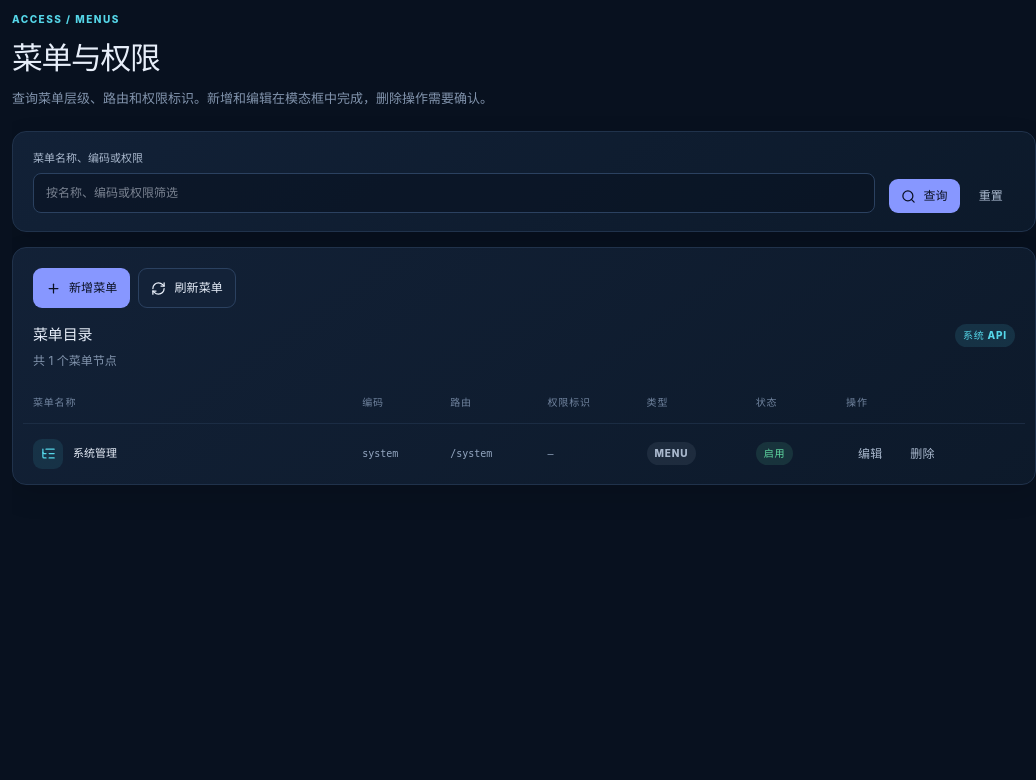
it: MenusPage › 刷新失败时保留菜单树并显示错误码，重试成功后清除反馈
expect the text "系统管理" is shown: met, box x1=73 y1=445 x2=117 y2=462
Click the button "刷新菜单": [187, 288] box x1=138 y1=268 x2=236 y2=308
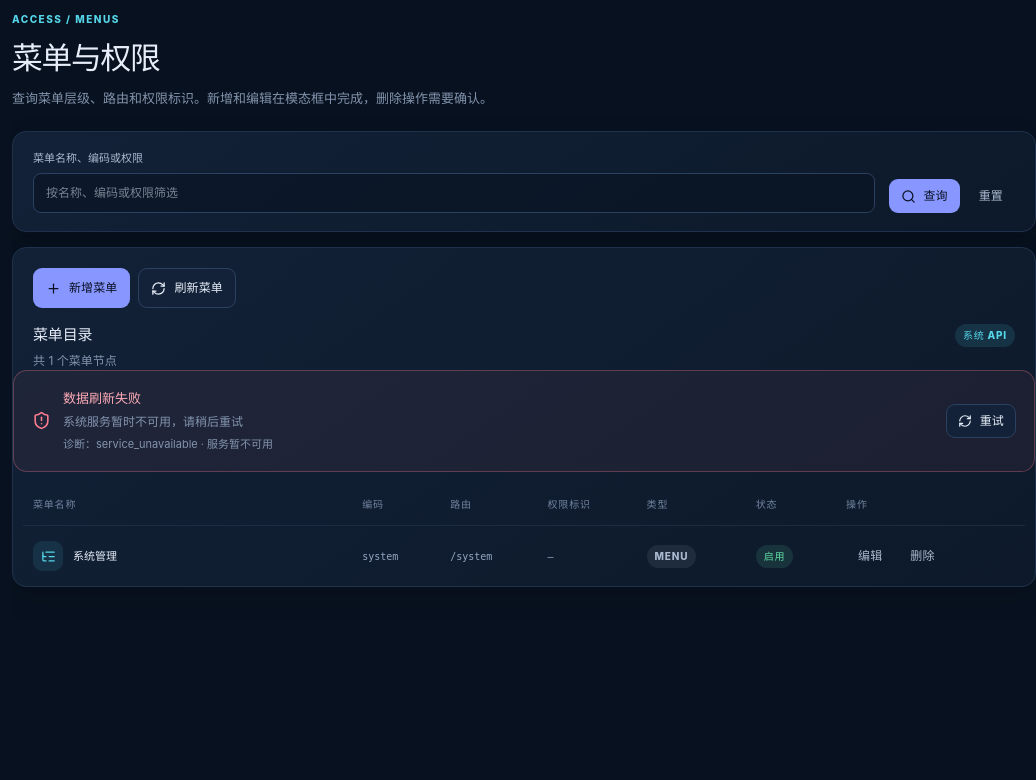
expect the text "系统管理" is shown: met, box x1=73 y1=548 x2=117 y2=564
expect the text "数据刷新失败" is shown: met, box x1=63 y1=390 x2=141 y2=406
expect the text "诊断：service_unavailable · 服务暂不可用" is shown: met, box x1=63 y1=437 x2=273 y2=451
Click the button "重试": [981, 421] box x1=946 y1=404 x2=1016 y2=438
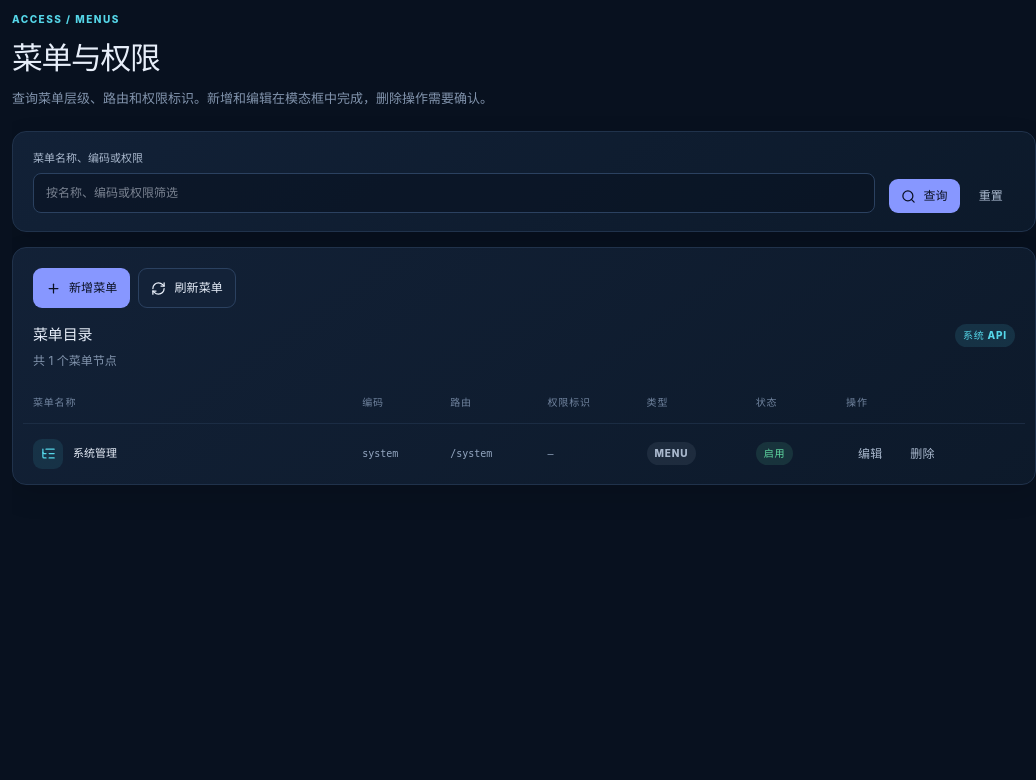
expect the text "系统管理" is shown: met, box x1=73 y1=445 x2=117 y2=462
expect the text "数据刷新失败" is gone: met
